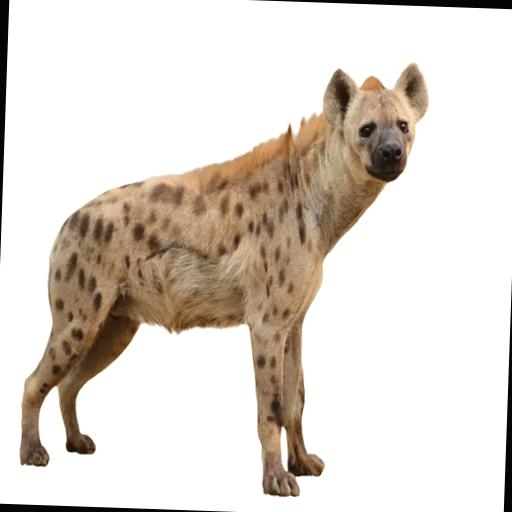hyenas: (0, 49, 480, 472)
